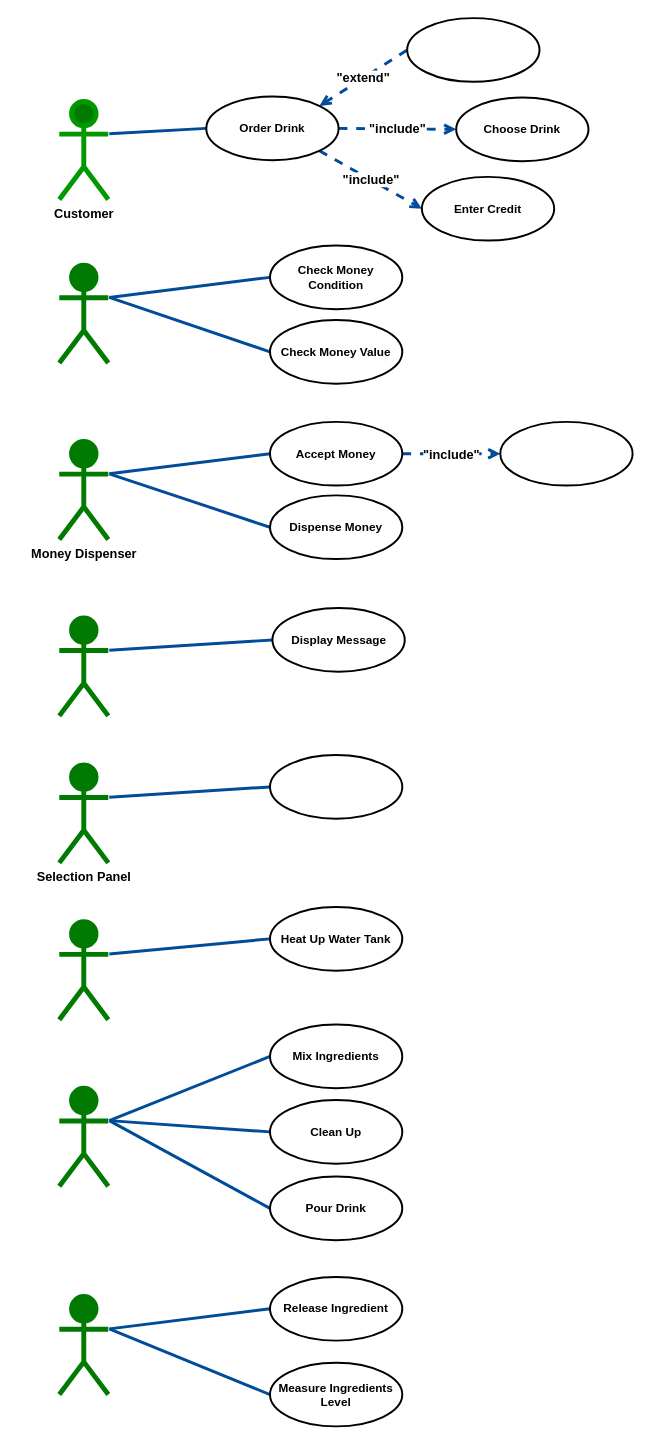
Some shapes in this 651 by 1444 pixel diagram are drawn without their labels. Each missing label, with the centre of its shape:
"Accumulate Balance" belongs at point (566, 453).
"Cancel Order" belongs at point (473, 49).
"Display Available Ingredients" belongs at point (336, 786).
"Ingredients Dispenser" belongs at point (83, 1345).
"Mixer" belongs at point (83, 1136).
"Money Sensor" belongs at point (83, 313).
"Screen" belongs at point (83, 666).
"Water Heater" belongs at point (83, 970).
